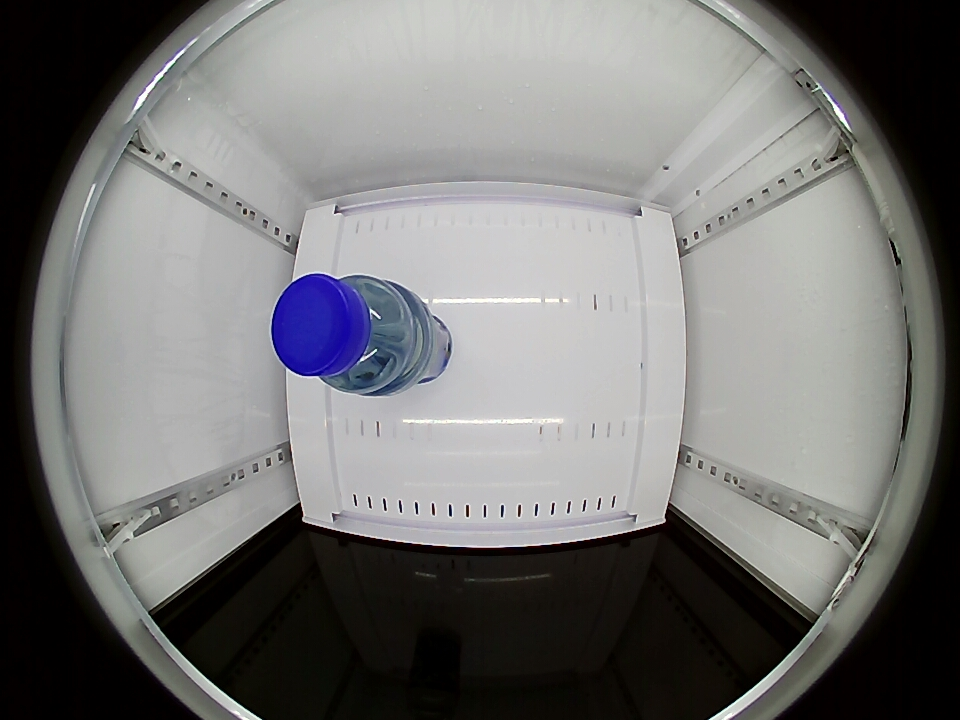maidong: (271, 272, 418, 395)
